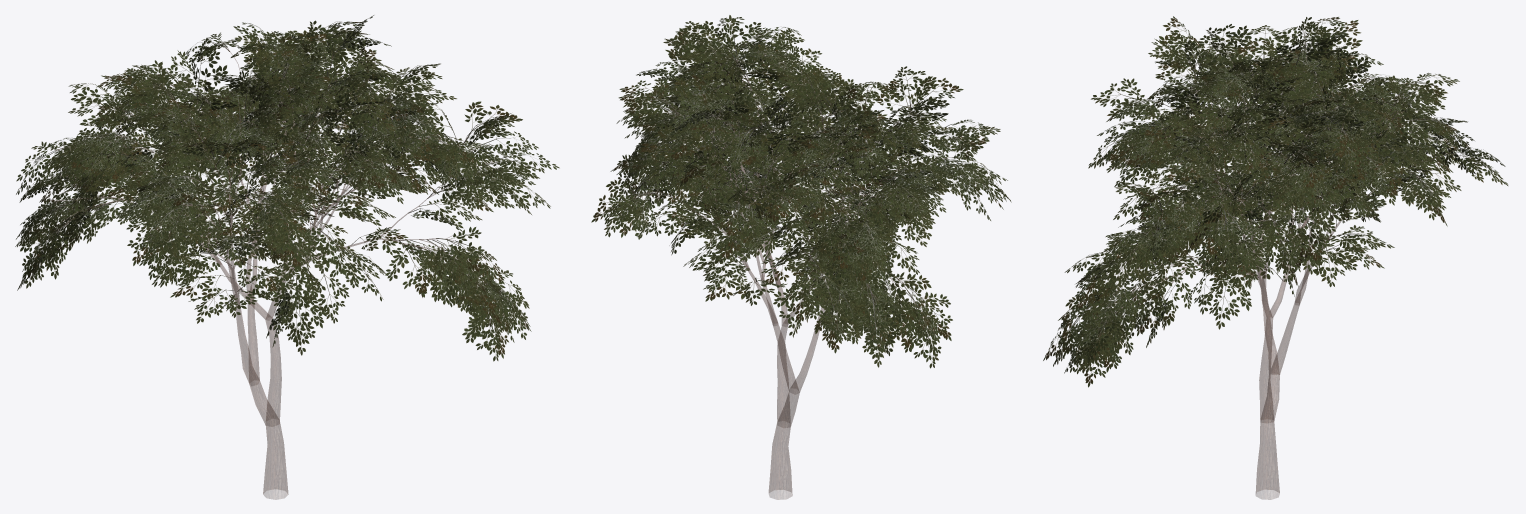
File: Tree.glb
3 renders of one model, left to right at view 1: azimuth 30°, elevation 25°; view 2: azimuth 150°, elevation 25°; view 3: azimuth 270°, elevation 25°, orthographic. The views are drawn at different scales.
Parts seen in each view (by area): view 1: Tree; view 2: Tree; view 3: Tree.
Boxes of the visible parts, x1,y1,x2,y2 form: Tree: [15, 15, 559, 499]; Tree: [591, 15, 1011, 499]; Tree: [1043, 16, 1508, 499].
Size of the model in its own units: 3.63 by 3.82 by 3.55.
2 materials, 2 textured.
